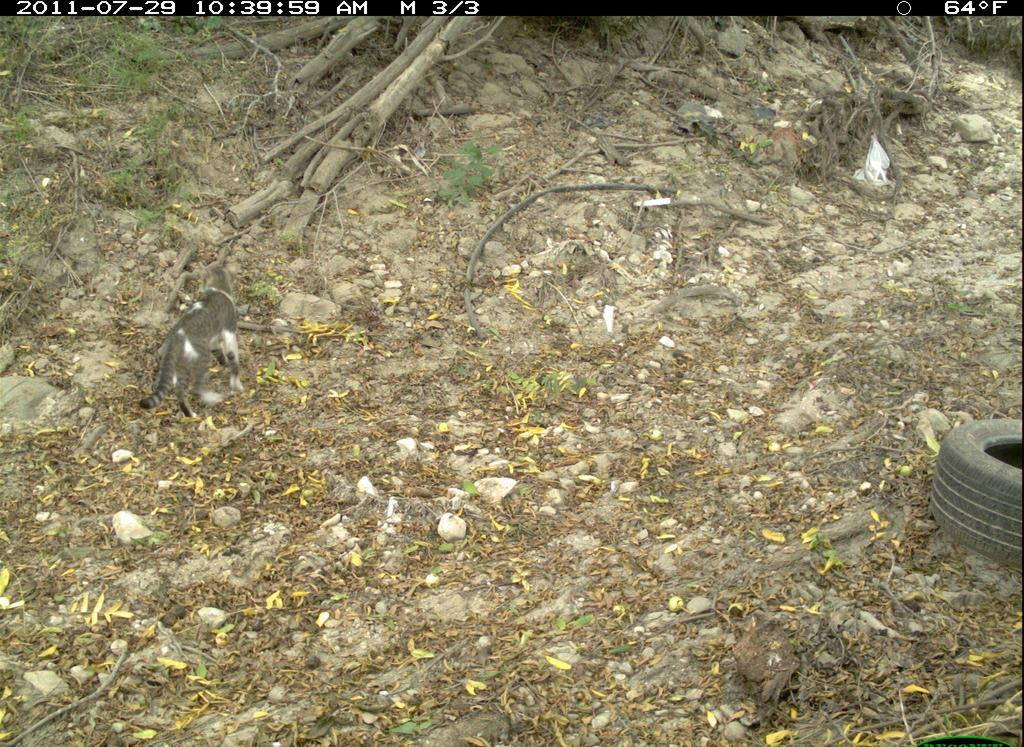cat: (134, 254, 257, 428)
